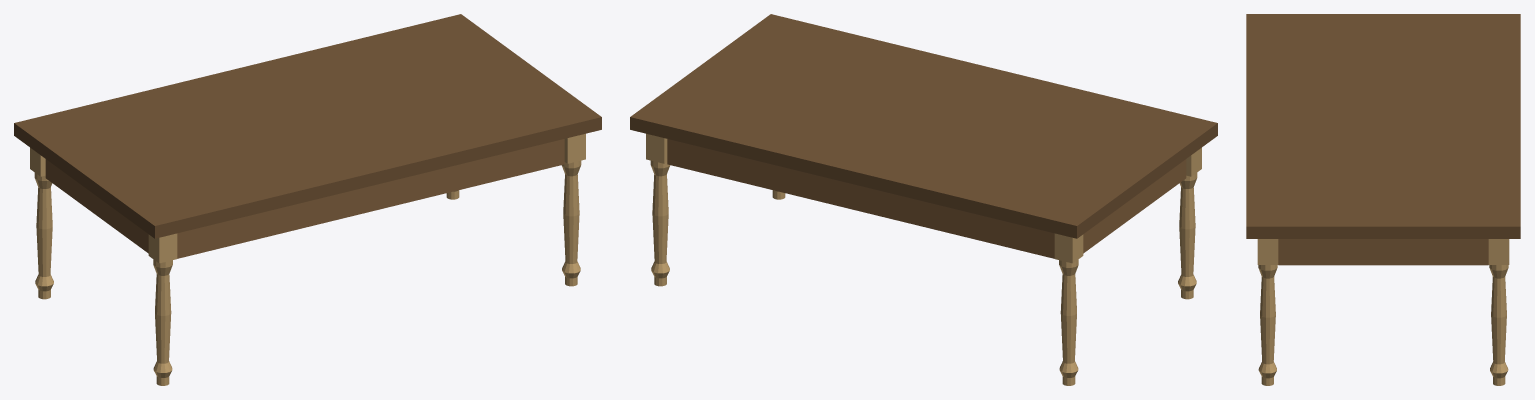
Rendered from FET-COF-std.glb.
The picture shows the model from 3 angles, left to right: view 1: azimuth 30°, elevation 25°; view 2: azimuth 150°, elevation 25°; view 3: azimuth 270°, elevation 25°; orthographic projection. The views are drawn at different scales.
Parts seen in each view (by area): view 1: top:pbr, apron-f:pbr, leg-fl:pbr, leg-fr:pbr, leg-bl:pbr, apron-l:pbr; view 2: top:pbr, apron-b:pbr, leg-bl:pbr, leg-br:pbr, leg-fl:pbr, apron-l:pbr; view 3: top:pbr, apron-r:pbr, leg-fr:pbr, leg-br:pbr.
Boxes of the visible parts, x1=… form: top:pbr: x1=14, y1=14, x2=601, y2=238; apron-f:pbr: x1=177, y1=139, x2=564, y2=258; leg-fl:pbr: x1=148, y1=233, x2=177, y2=385; leg-fr:pbr: x1=561, y1=133, x2=585, y2=286; leg-bl:pbr: x1=30, y1=147, x2=53, y2=299; apron-l:pbr: x1=45, y1=159, x2=148, y2=253; top:pbr: x1=630, y1=14, x2=1217, y2=238; apron-b:pbr: x1=667, y1=139, x2=1054, y2=258; leg-bl:pbr: x1=1054, y1=233, x2=1083, y2=385; leg-br:pbr: x1=646, y1=133, x2=670, y2=286; leg-fl:pbr: x1=1178, y1=147, x2=1201, y2=299; apron-l:pbr: x1=1083, y1=159, x2=1186, y2=253; top:pbr: x1=1246, y1=14, x2=1520, y2=238; apron-r:pbr: x1=1278, y1=239, x2=1488, y2=265; leg-fr:pbr: x1=1257, y1=239, x2=1278, y2=385; leg-br:pbr: x1=1488, y1=239, x2=1509, y2=385.
Bounding box in the file's own units: 1.1 × 0.4 × 0.6.
